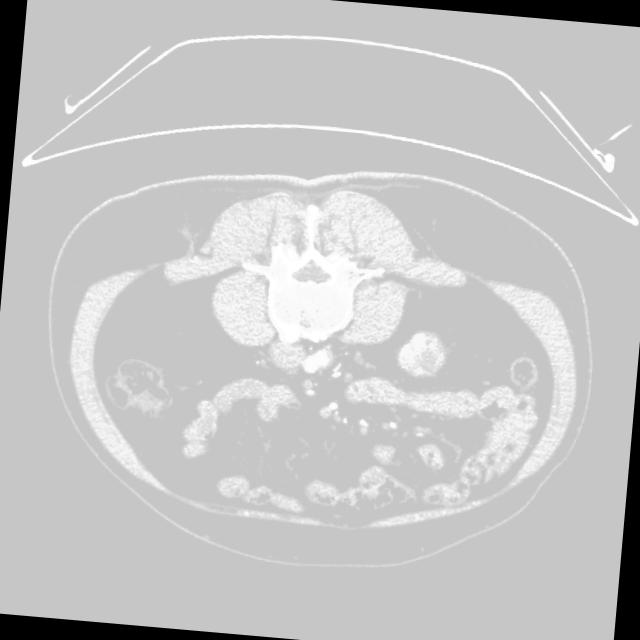TUMOR: (325, 304, 551, 465)
